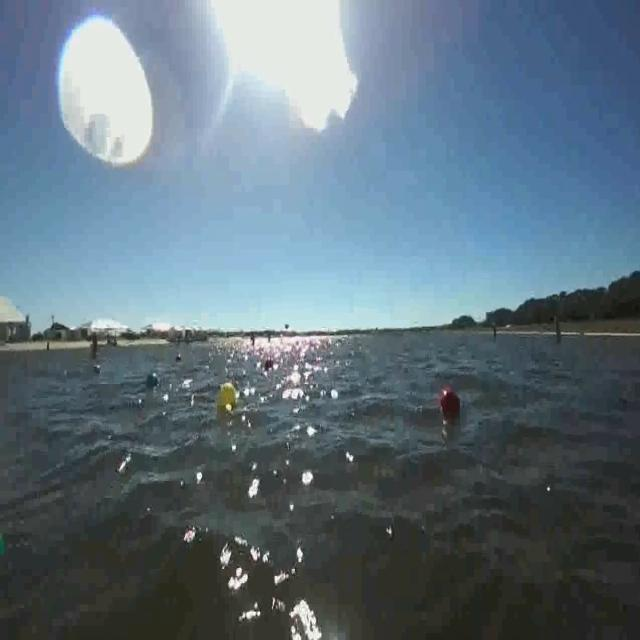red-buoy: (440, 393, 458, 416)
yellow-buoy: (216, 380, 238, 414)
